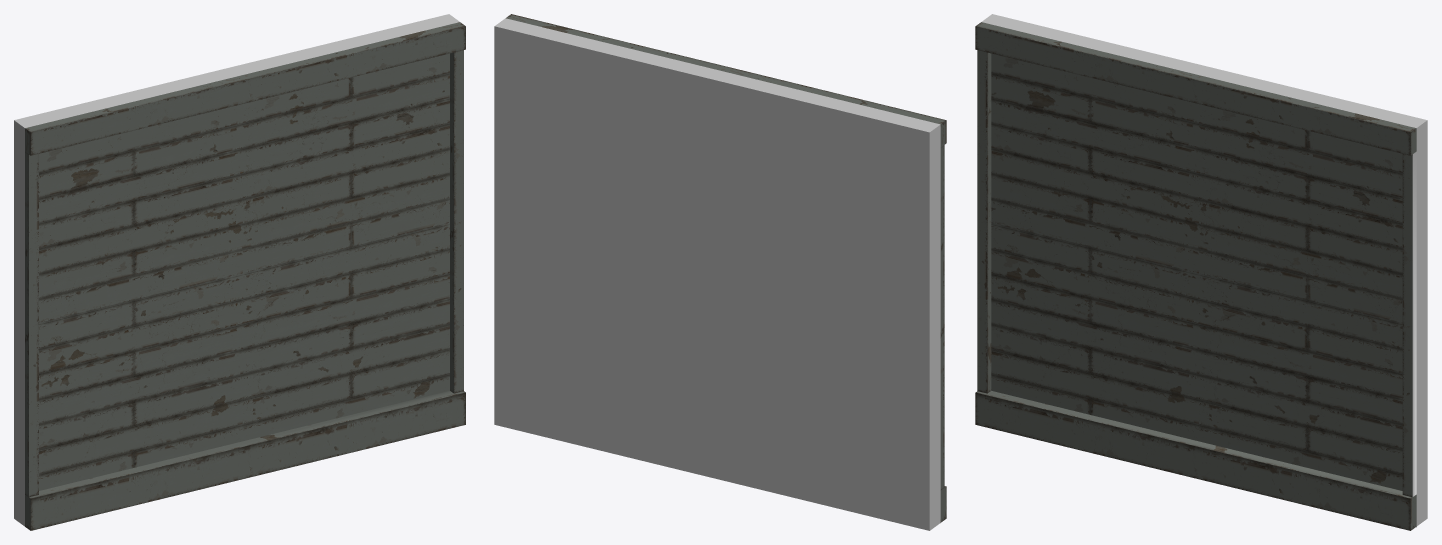
File: SM_EWall400.FBX
3 renders of one model, left to right at view 1: azimuth 30°, elevation 25°; view 2: azimuth 150°, elevation 25°; view 3: azimuth 330°, elevation 25°, orthographic.
Visible parts, largest first — view 1: SM_EWall400; view 2: SM_EWall400; view 3: SM_EWall400.
Boxes of the visible parts, <box> form: SM_EWall400: <box>14,14,465,530</box>; SM_EWall400: <box>494,14,946,530</box>; SM_EWall400: <box>975,14,1427,530</box>.
Bounding box in the file's own units: 400 × 351 × 26.73.
